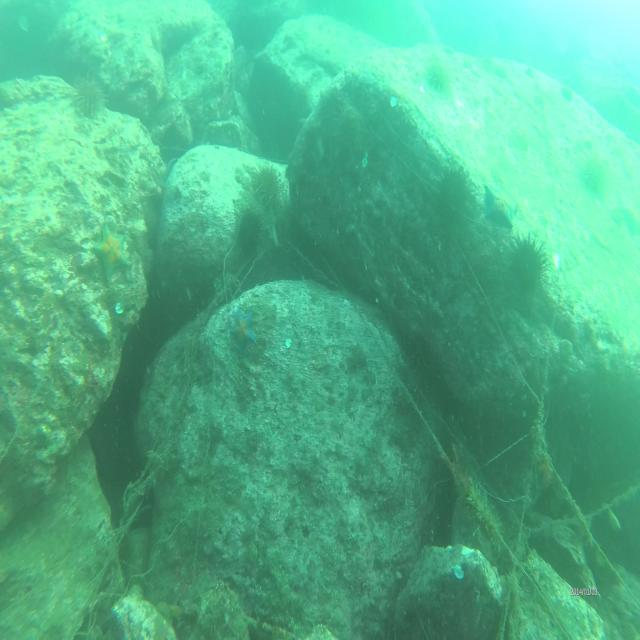echinus: (507, 232, 547, 298), (71, 74, 105, 119), (255, 165, 281, 205), (238, 209, 262, 251)
starfish: (91, 221, 133, 287), (226, 310, 258, 358)
